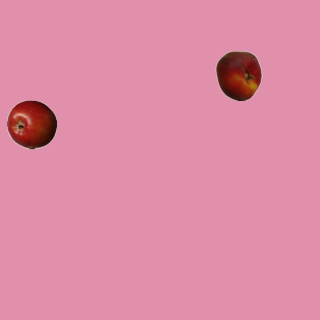Apple Braeburn: (6, 99, 56, 149)
Nectarine Flat: (213, 50, 263, 100)
